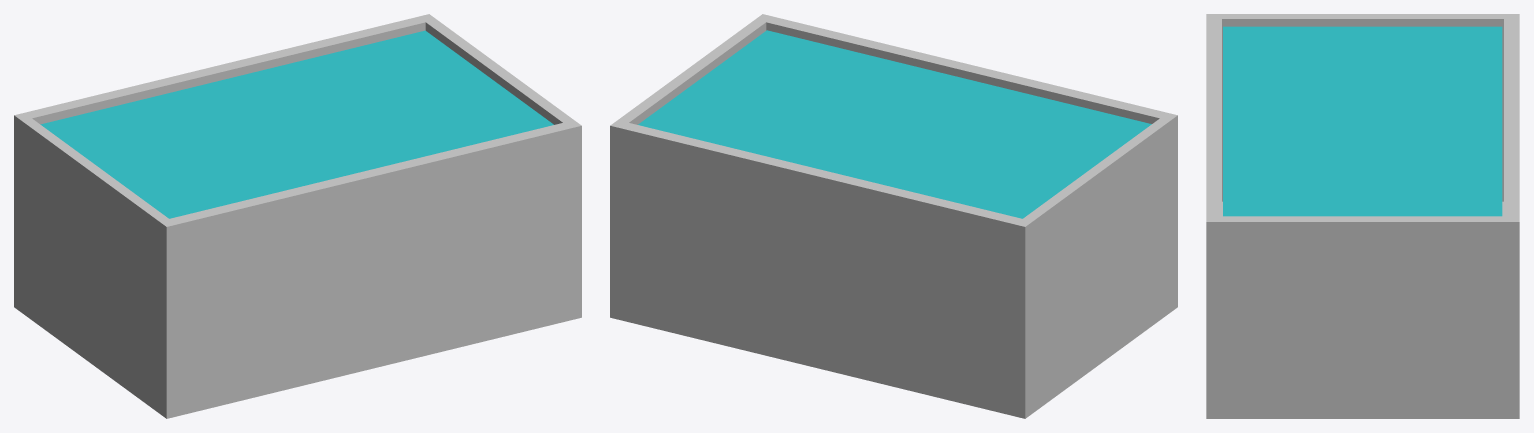
File: Aquarium.fbx
3 renders of one model, left to right at view 1: azimuth 30°, elevation 25°; view 2: azimuth 150°, elevation 25°; view 3: azimuth 270°, elevation 25°, orthographic. The views are drawn at different scales.
Parts seen in each view (by area): view 1: Cube; view 2: Cube; view 3: Cube.
Boxes of the visible parts, box(x1,y1,x2,y2) form: Cube: box(14, 14, 581, 418); Cube: box(610, 14, 1177, 418); Cube: box(1206, 14, 1519, 418).
Size of the model in its own units: 131 by 57.75 by 83.2.
